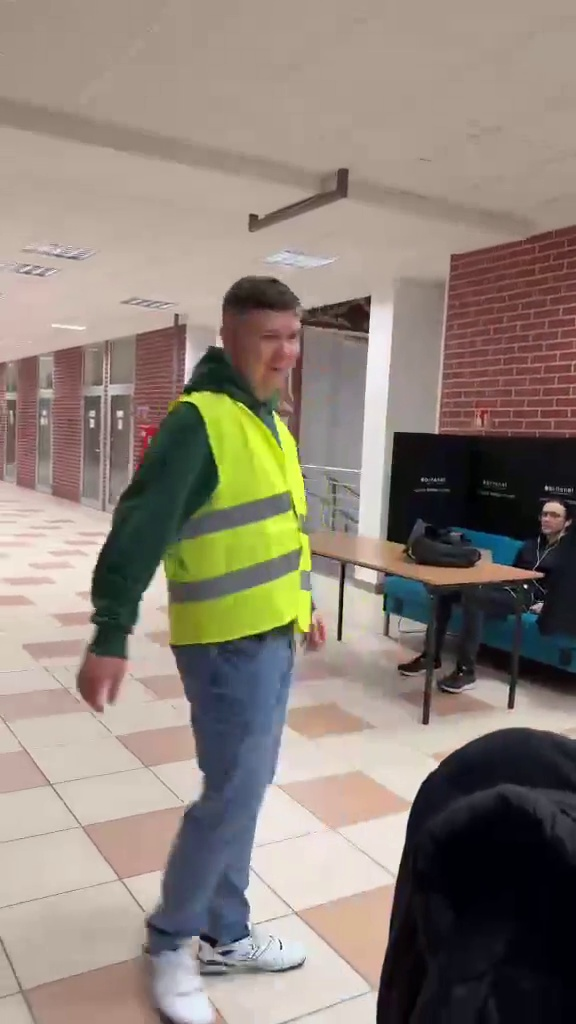no vest: (437, 479, 570, 671)
vest: (83, 268, 320, 1009)
